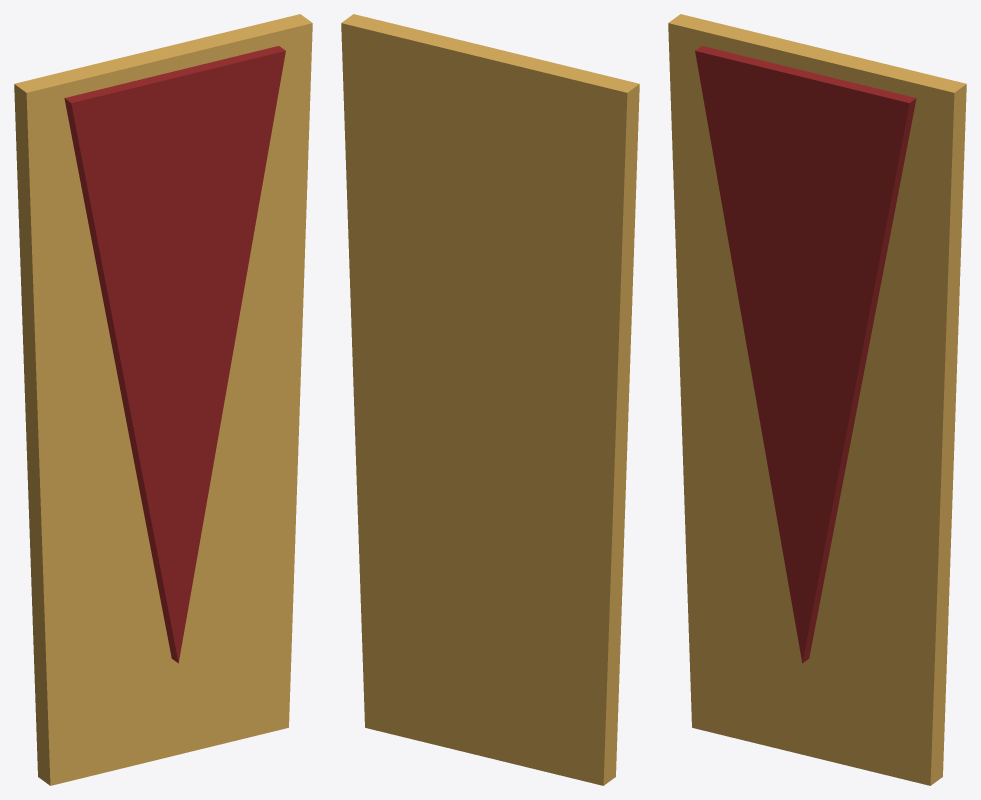
Rendered from knight-surcoat.glb.
The picture shows the model from 3 angles, left to right: view 1: azimuth 30°, elevation 25°; view 2: azimuth 150°, elevation 25°; view 3: azimuth 330°, elevation 25°; orthographic projection.
Parts seen in each view (by area): view 1: Cloth, Pile; view 2: Cloth; view 3: Cloth, Pile.
Boxes of the visible parts, x1,y1,x2,y2 form: Cloth: [14, 14, 312, 785]; Pile: [64, 46, 285, 663]; Cloth: [341, 14, 639, 785]; Cloth: [668, 14, 966, 785]; Pile: [695, 46, 916, 663].
Bounding box in the file's own units: 0.24 × 0.56 × 0.031.
